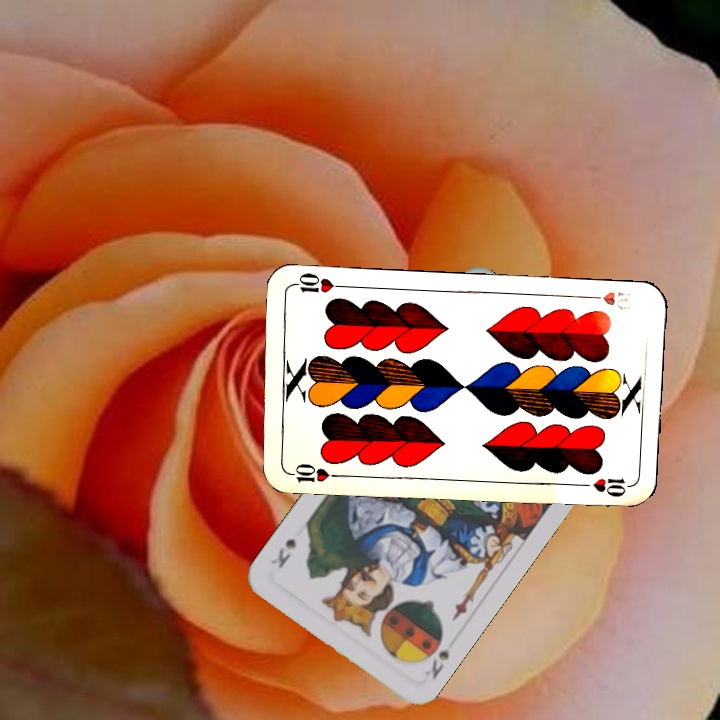H10: (283, 459, 342, 485), (582, 287, 632, 312)
SK: (420, 632, 460, 682)
